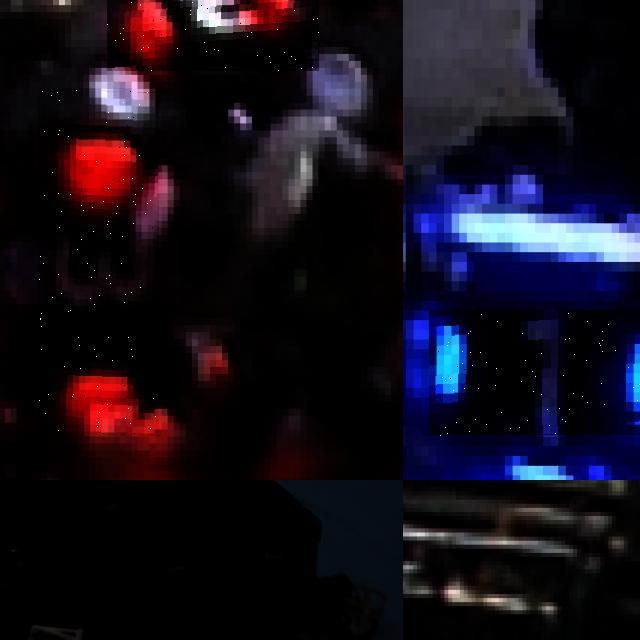B1: (429, 310, 640, 436)
R3: (38, 89, 159, 436), (107, 0, 318, 71)
